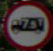Heavy Vehicles: (3, 3, 48, 43)
